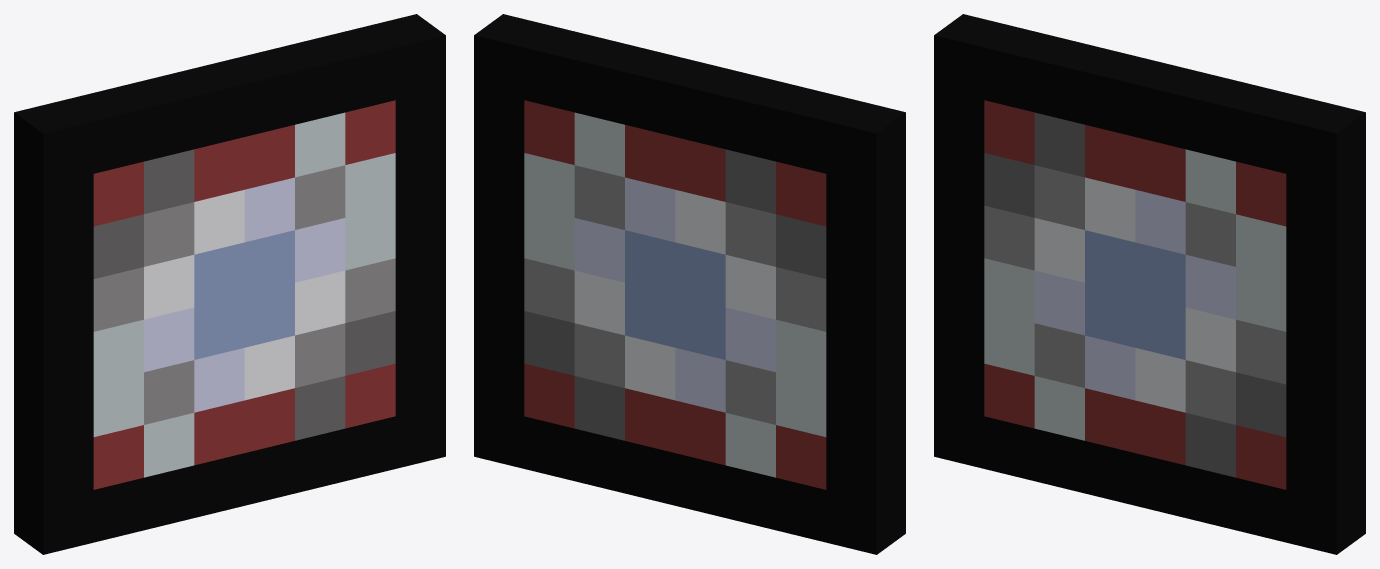
Rendered from Frost Golem Spawner Block.glb.
The picture shows the model from 3 angles, left to right: view 1: azimuth 30°, elevation 25°; view 2: azimuth 150°, elevation 25°; view 3: azimuth 330°, elevation 25°; orthographic projection.
Parts seen in each view (by area): view 1: generated(Clone); view 2: generated(Clone); view 3: generated(Clone).
Boxes of the visible parts, x1,y1,x2,y2 form: generated(Clone): (14, 14, 445, 554); generated(Clone): (474, 14, 905, 554); generated(Clone): (934, 14, 1365, 554).
Bounding box in the file's own units: 8 × 8 × 1.
1 material, 1 textured.
